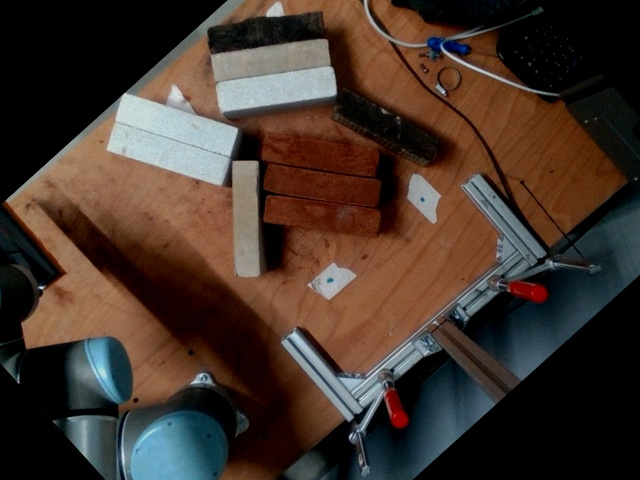brick-side: (338, 90, 441, 155), (109, 124, 224, 180), (116, 96, 231, 152), (218, 66, 335, 108), (213, 38, 329, 79), (262, 134, 379, 174), (263, 195, 379, 235), (263, 166, 379, 205), (209, 12, 323, 51), (234, 162, 255, 276)
